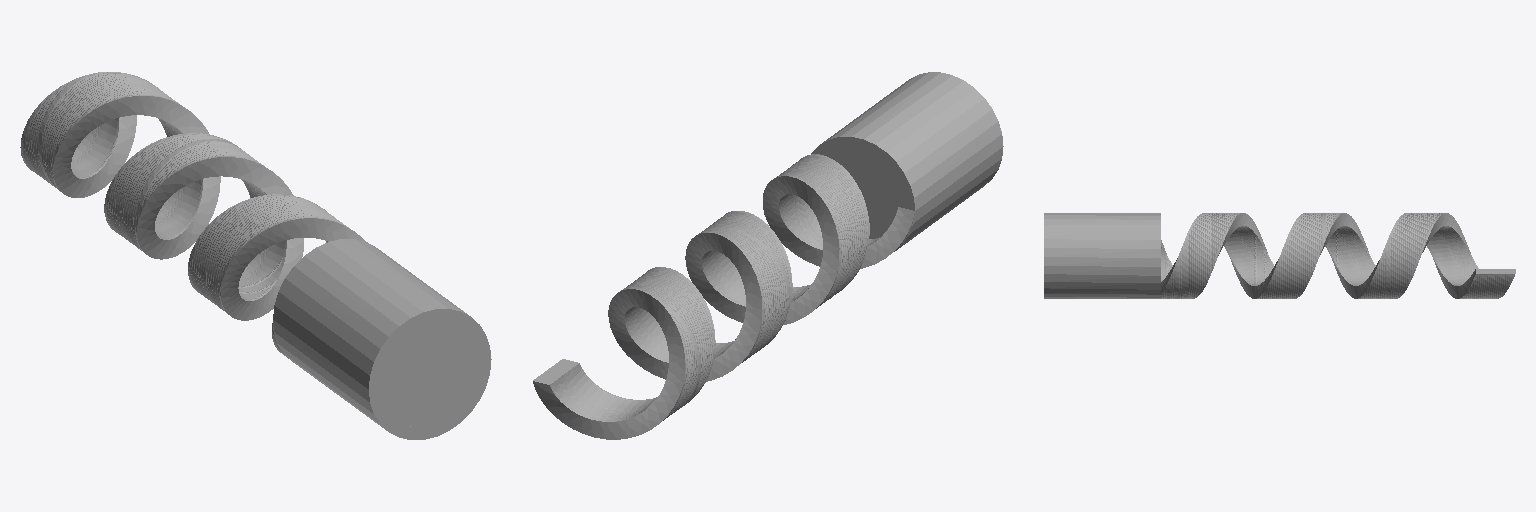
The robot description file, URDF, robot "magnetic_robot":
<?xml version="1.0" ?>
<robot name="magnetic_robot">
  <link name="base_link">
    <inertial>
      <origin xyz="0.01067 -0.00298 -0.00001" rpy="0 0 0"/>
      <mass value="4.3e-5"/> 
      <inertia ixx="1.93e-10" ixy="0" ixz="0" iyy="1.8e-11" iyz="0" izz="1.93e-10"/>
    </inertial>

    <visual>
      <origin xyz="0 0 0" rpy="0 0 0"/>
      <geometry>
        <mesh filename="robot_model\microrobot_ass.stl" scale="1 1 1"/>
      </geometry>
      <material name="metal">
        <color rgba="0.7 0.7 0.7 1"/>
      </material>
    </visual>

    <collision>
      <origin xyz="0 0 0" rpy="0 0 0"/>
      <geometry>
        <cylinder radius="0.0015" length="0.002"/>
      </geometry>
    </collision>
  </link>
</robot>

--- What the picture shows (computed from the rendered views, not written in the file) ---
Views: 3 orthographic renders of the robot side by side, from view 1: azimuth 30°, elevation 25°; view 2: azimuth 150°, elevation 25°; view 3: azimuth 270°, elevation 25°.
Model magnetic_robot with 1 links and 0 joints (none), rooted at base_link, posed every joint at zero.
Visible links, largest first — view 1: base_link; view 2: base_link; view 3: base_link.
Link boxes in pixels (box(x1,y1,x2,y2)): base_link: box(20, 72, 491, 439); base_link: box(533, 72, 1003, 439); base_link: box(1044, 213, 1515, 298).
Bounding box of the posed robot: 0.002 × 0.011 × 0.002 m (x, y, z).
Meshes: 1 distinct files referenced, 1 mesh visuals loaded (1 binary STL).